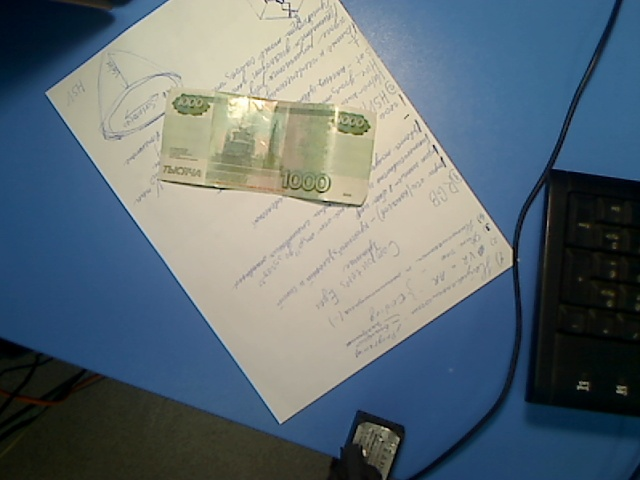banknotes: (155, 83, 376, 210)
